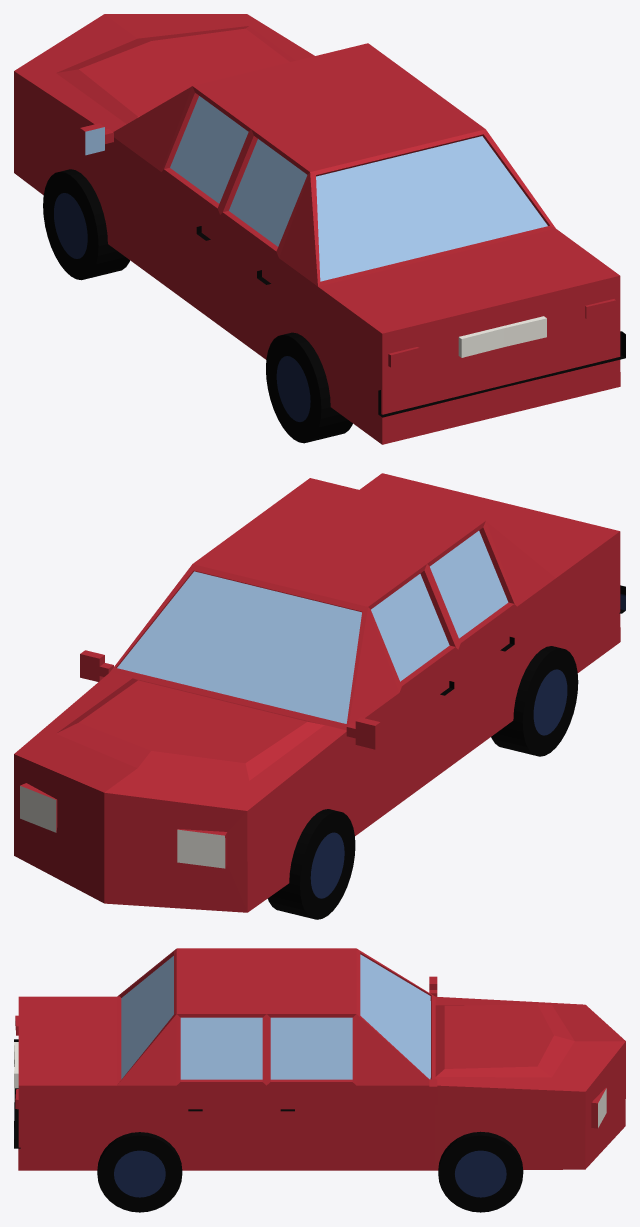
The model's file is RedCar.fbx.
The picture shows the model from 3 angles, top to bottom: view 1: azimuth 30°, elevation 25°; view 2: azimuth 150°, elevation 25°; view 3: azimuth 270°, elevation 25°; orthographic projection. The views are drawn at different scales.
Parts seen in each view (by area): view 1: RedCar; view 2: RedCar; view 3: RedCar.
Part boxes in pixels (box(x1,y1,x2,y2)): RedCar: box(14, 14, 625, 444); RedCar: box(14, 473, 625, 919); RedCar: box(14, 948, 625, 1212).
Bounding box in the file's own units: 132 × 102 × 310.
